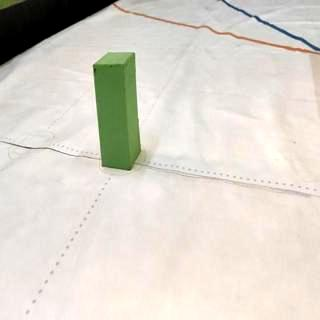greenbox: (92, 52, 140, 172)
